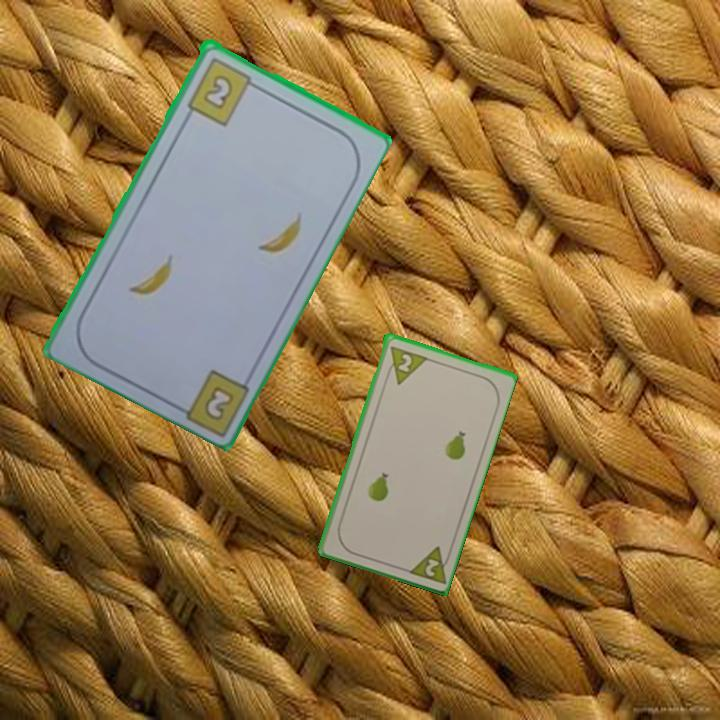2b: (183, 53, 262, 128), (200, 382, 237, 425)
2p: (403, 542, 454, 586), (394, 350, 415, 375)
